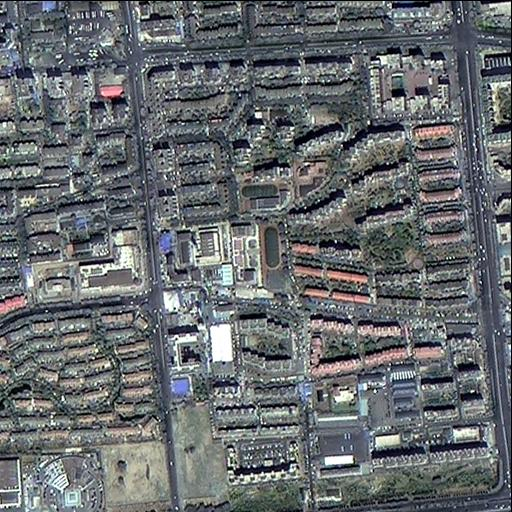school: (227, 217, 284, 294), (232, 176, 296, 213)
